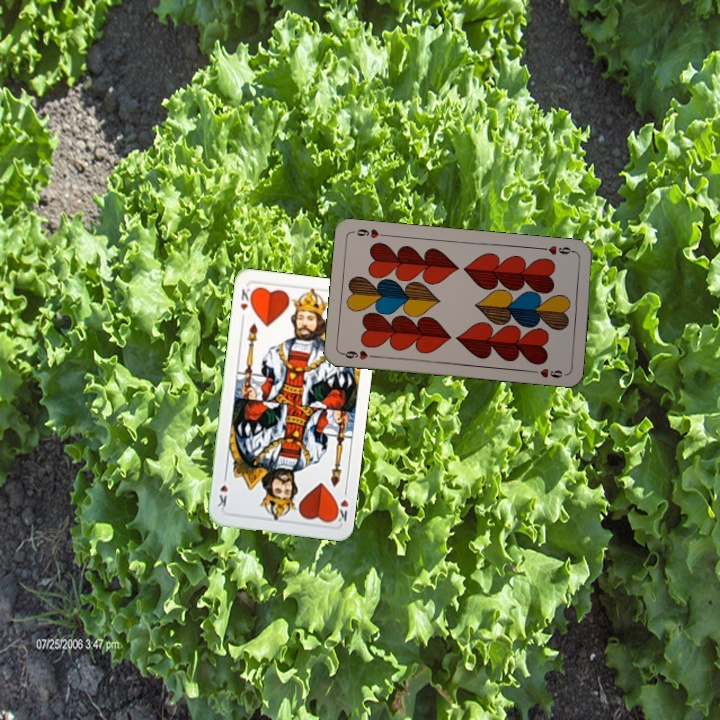H9: (537, 241, 578, 257), (338, 347, 379, 362)
HK: (330, 485, 351, 525), (236, 284, 256, 323)
